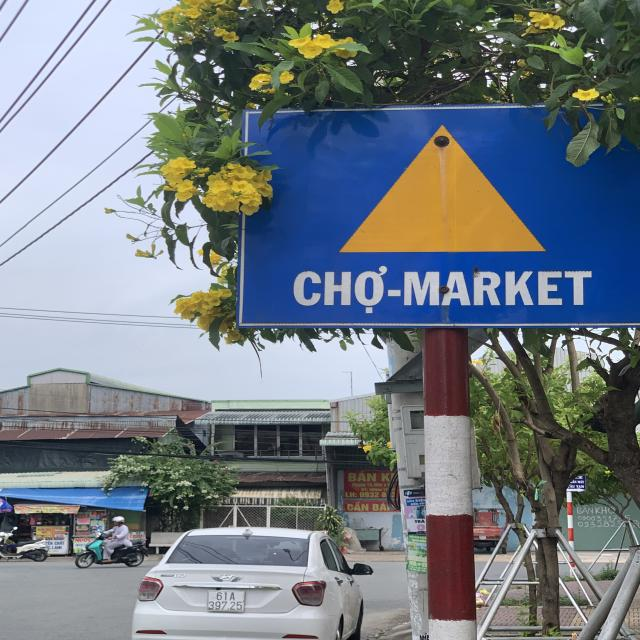Cho_Quay_Xe: (247, 106, 638, 325)
